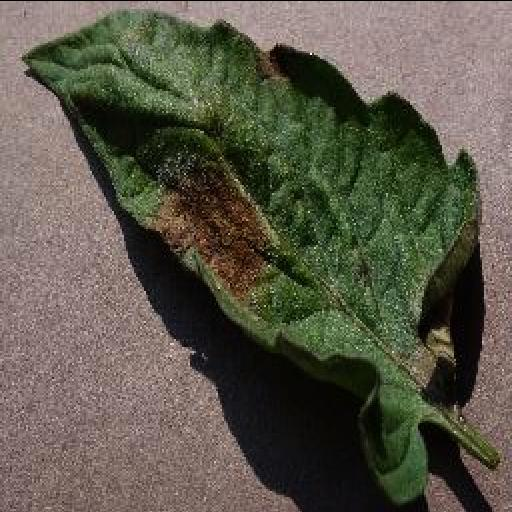disease_tomato: (18, 8, 484, 508)
